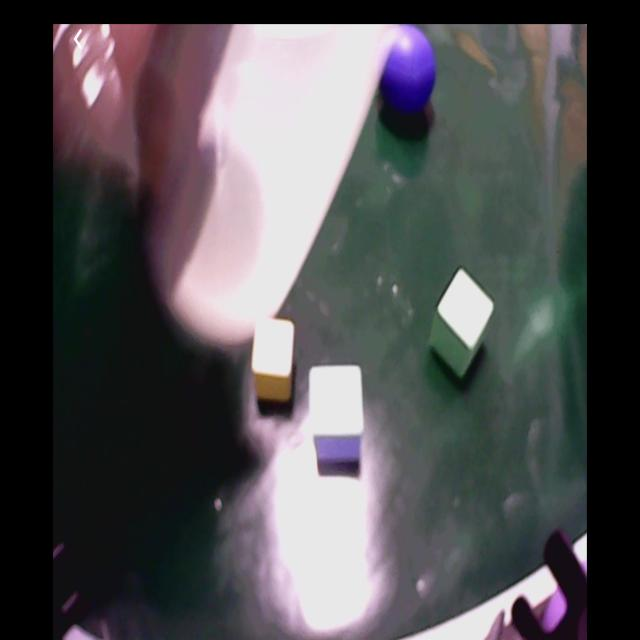ball: (379, 27, 437, 113), (546, 558, 588, 636)
